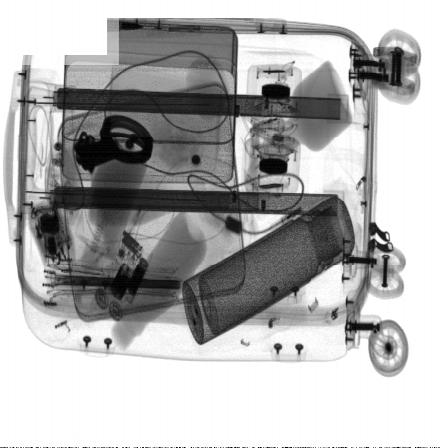HandCuffs: (70, 111, 153, 180)
